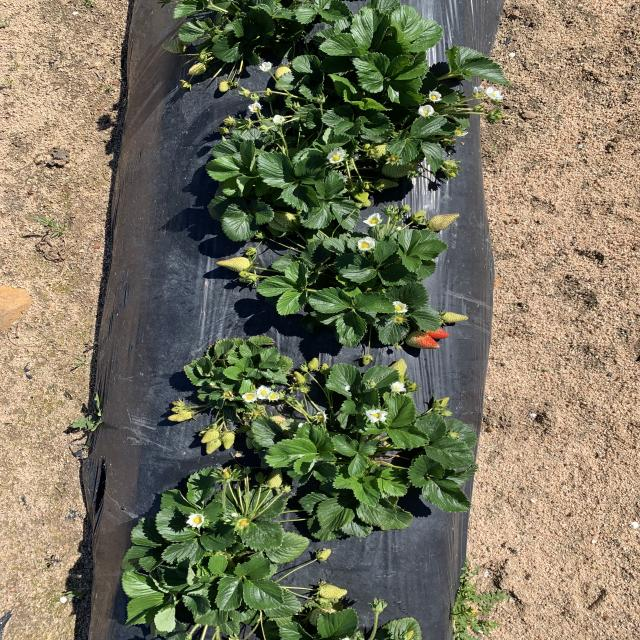unripe: (424, 328, 449, 340)
